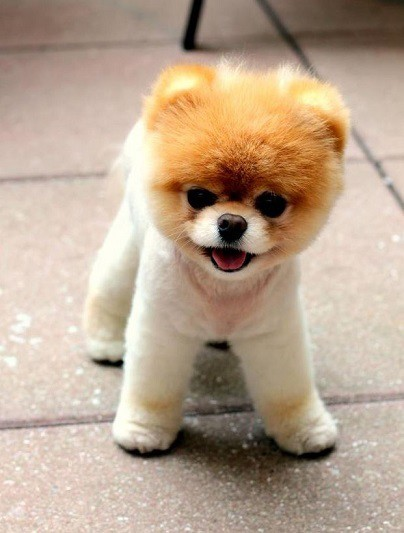pomeranian: (81, 44, 346, 466)
